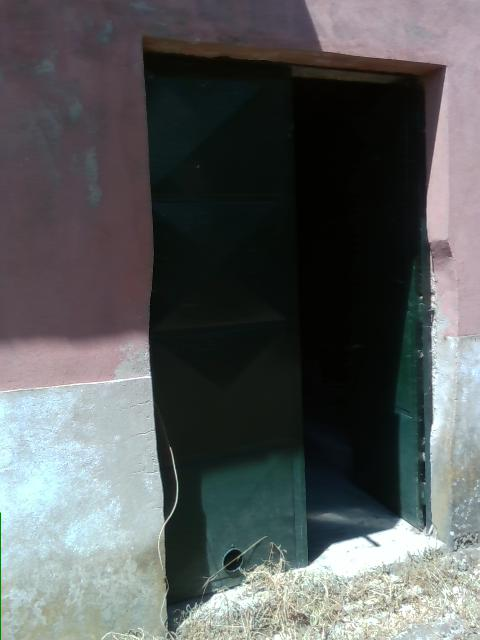open_door: (286, 58, 442, 572)
